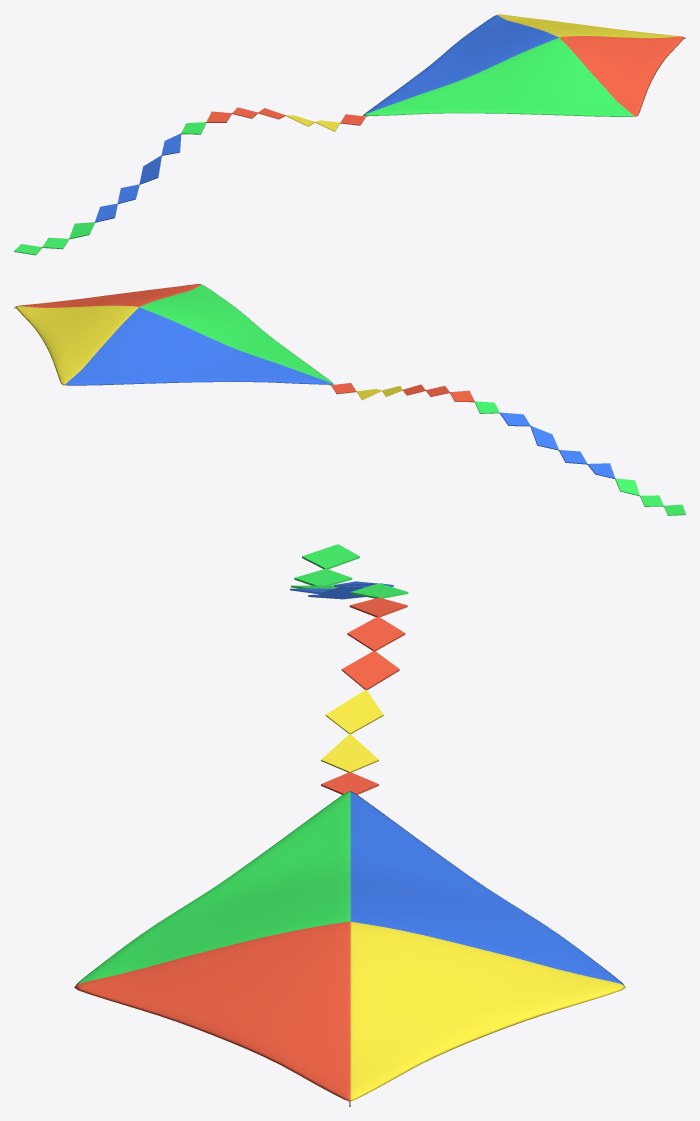
The model's file is kite.glb.
The picture shows the model from 3 angles, top to bottom: view 1: azimuth 30°, elevation 25°; view 2: azimuth 150°, elevation 25°; view 3: azimuth 270°, elevation 25°; orthographic projection. The views are drawn at different scales.
Visible parts, largest first — view 1: Object_6; view 2: Object_6; view 3: Object_6.
Part boxes in pixels (x1,y1,x2,y2): Object_6: (14, 14, 685, 255); Object_6: (14, 284, 685, 515); Object_6: (74, 544, 625, 1106).
Bounding box in the file's own units: 1 × 0.1107 × 0.3574.
Materials: 2 (2 with a texture image).
